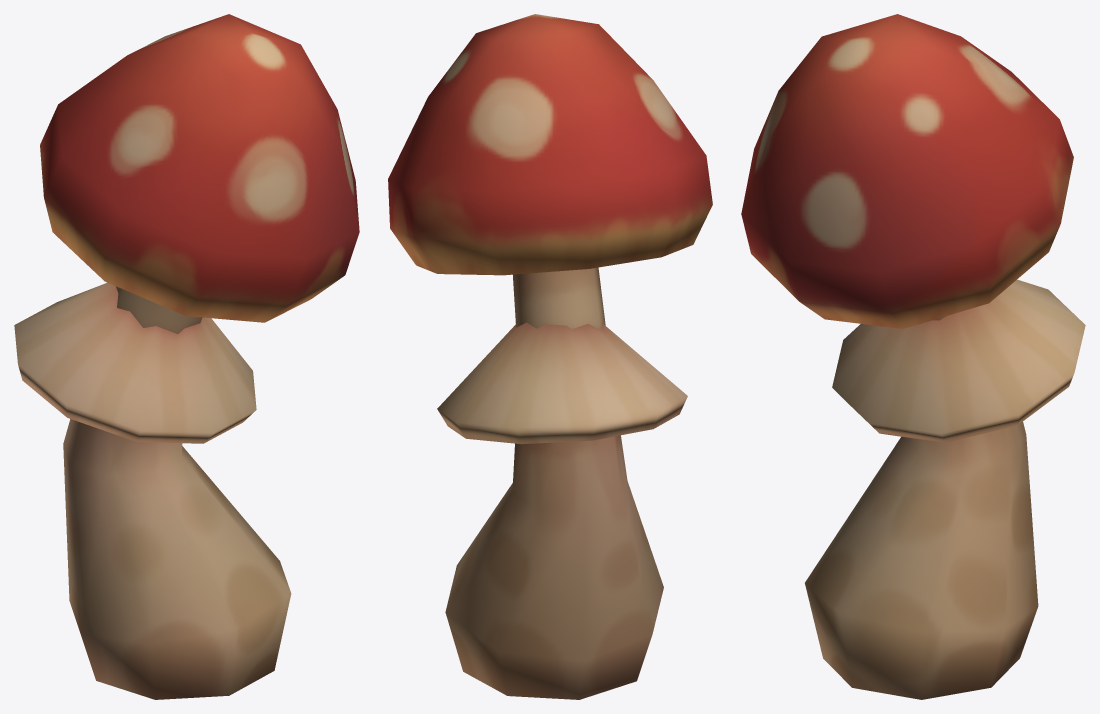
Rendered from mashroom02.fbx.
3 views of the same model, side by side, from view 1: azimuth 30°, elevation 25°; view 2: azimuth 150°, elevation 25°; view 3: azimuth 270°, elevation 25° (orthographic). The views are drawn at different scales.
Parts seen in each view (by area): view 1: mushroom02; view 2: mushroom02; view 3: mushroom02.
Part boxes in pixels (x1,y1,x2,y2): mushroom02: (14,14,359,699); mushroom02: (388,14,712,699); mushroom02: (741,14,1085,699).
Size of the model in its own units: 31.48 by 69.25 by 32.05.
